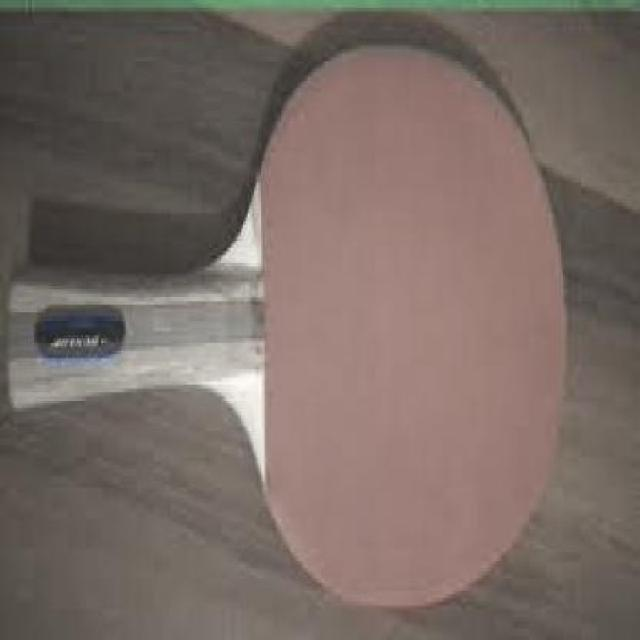table_tennis_racket: (6, 46, 566, 609)
